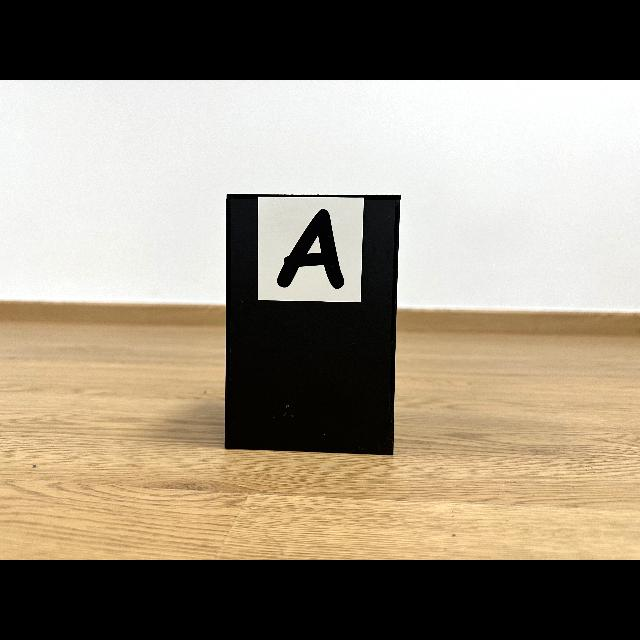A: (276, 209, 344, 289)
